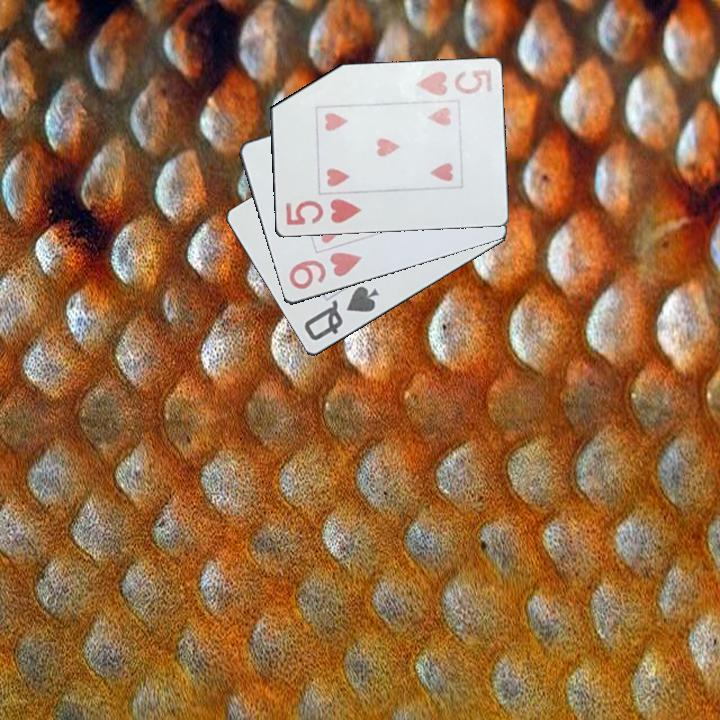5h: (410, 65, 495, 99), (282, 195, 365, 229)
9h: (285, 249, 367, 293)
Qs: (300, 283, 382, 344)
